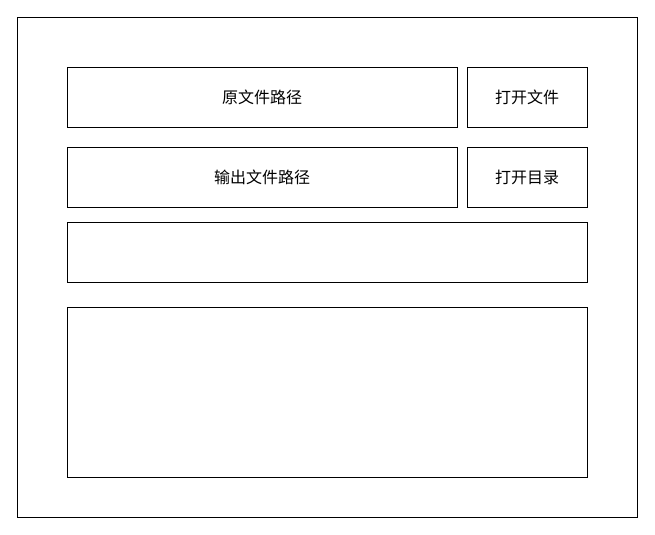
Some shapes in this 655 by 535 pixel diagram are drawn without their labels. Here are the shapes that lost their labels. From the top down, the centre of each, then its label:
At (327,252): "进度条".
At (327,392): "运行日志".
